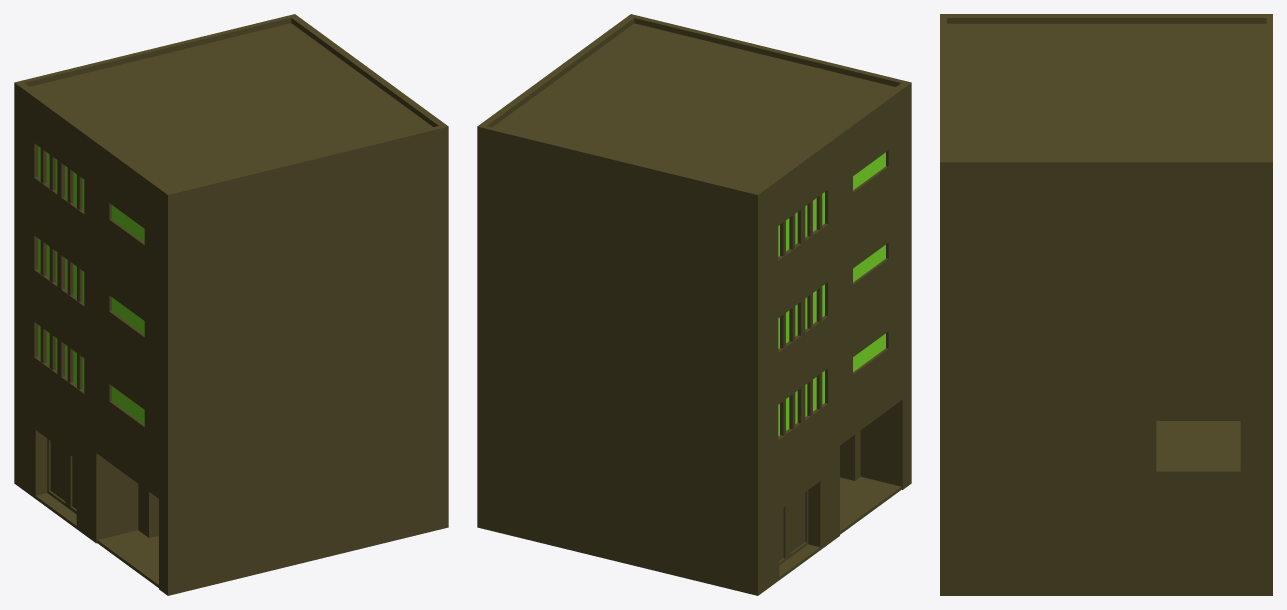
Rendered from SM_Buildings_Special_01.fbx.
3 views of the same model, side by side, from view 1: azimuth 30°, elevation 25°; view 2: azimuth 150°, elevation 25°; view 3: azimuth 270°, elevation 25° (orthographic). The views are drawn at different scales.
Parts seen in each view (by area): view 1: SM_Buildings_Special_01; view 2: SM_Buildings_Special_01; view 3: SM_Buildings_Special_01.
Part boxes in pixels (<box>): SM_Buildings_Special_01: <box>14,14,448,595</box>; SM_Buildings_Special_01: <box>477,14,911,595</box>; SM_Buildings_Special_01: <box>940,14,1272,595</box>.
Size of the model in its own units: 2896 by 3950 by 2747.
